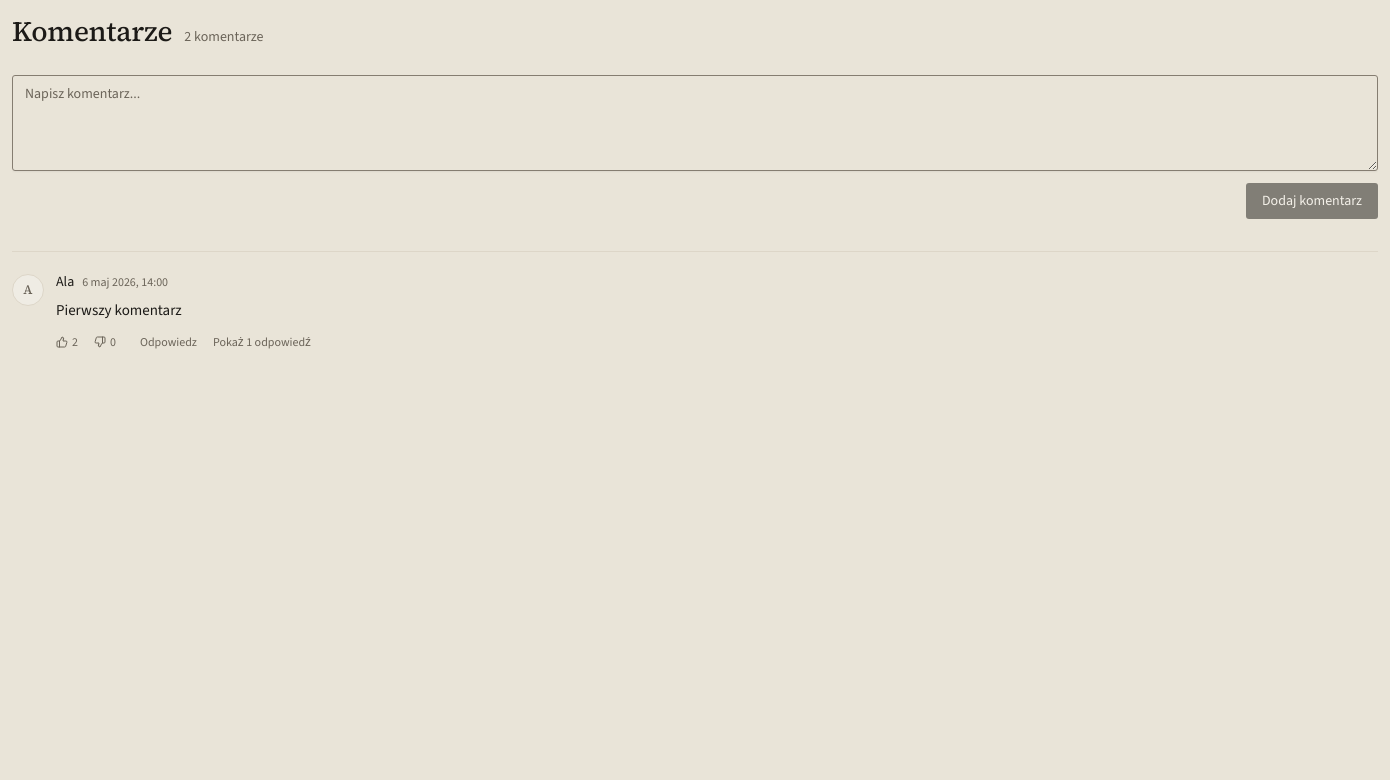
Test: ArticleComments › renders the comment tree and lets a signed-in user add a reply
Check: the text "2 komentarze" is shown, box [184,27,264,47]
Check: the text "Pierwszy komentarz" is shown, box [56,300,182,320]
Click the button "Pokaż 1 odpowiedź" at [262, 342], box [207,330,317,354]
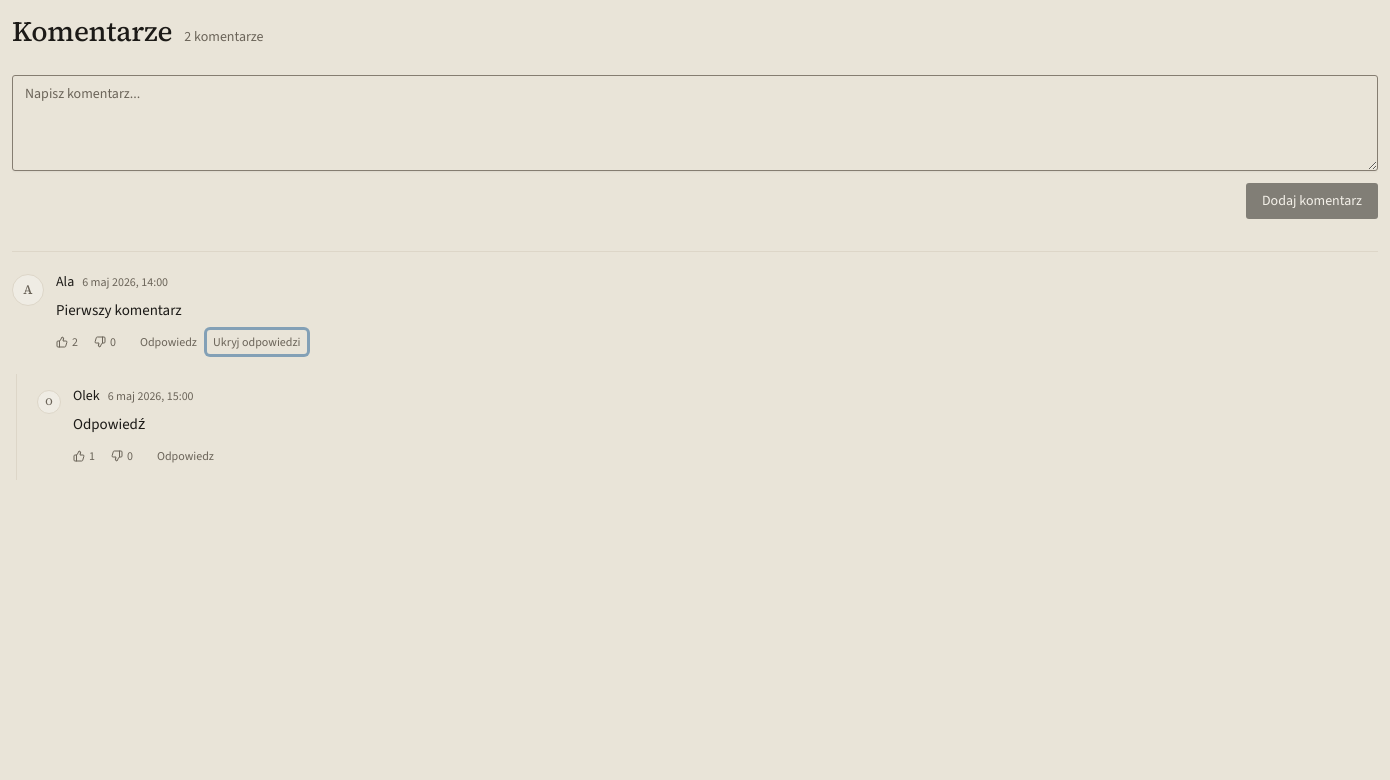
Check: the text "Odpowiedź" is shown, box [73,414,145,434]
Click the button "Odpowiedz" below "Pierwszy komentarz" at [168, 342], box [134,330,203,354]
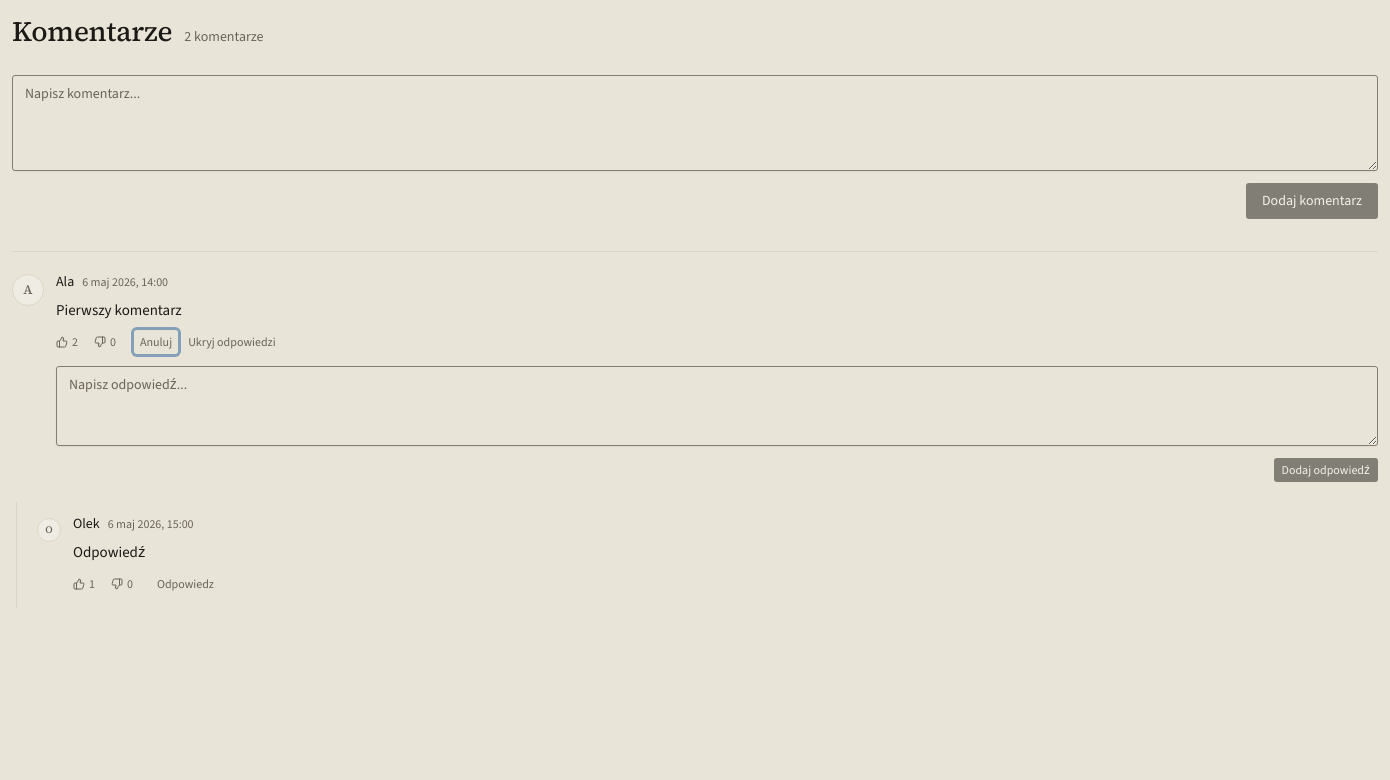
Type "Nowa odpowiedź" into the text box with placeholder "Napisz odpowiedź..." at [717, 406], box [56,366,1378,446]
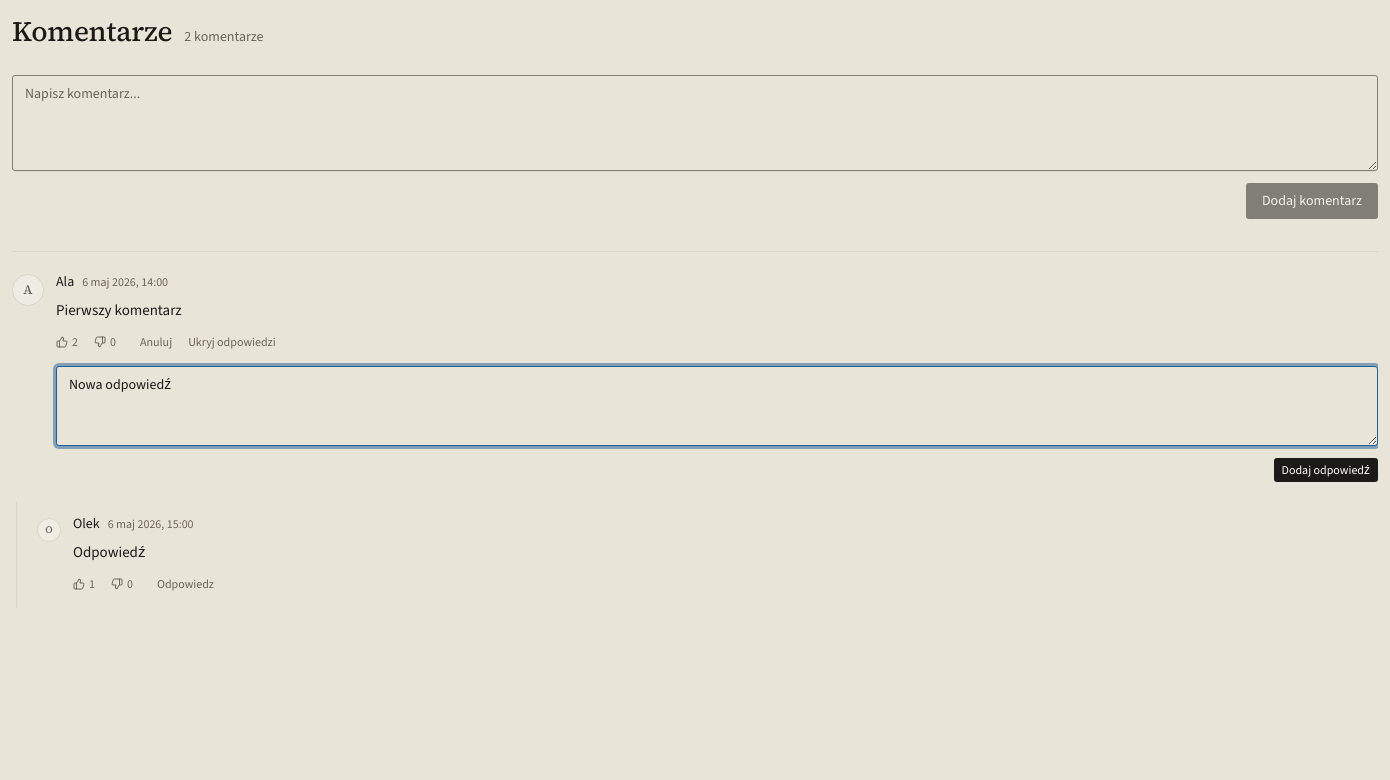
Click the button "Dodaj odpowiedź" at [1326, 470], box [1274,458,1378,482]
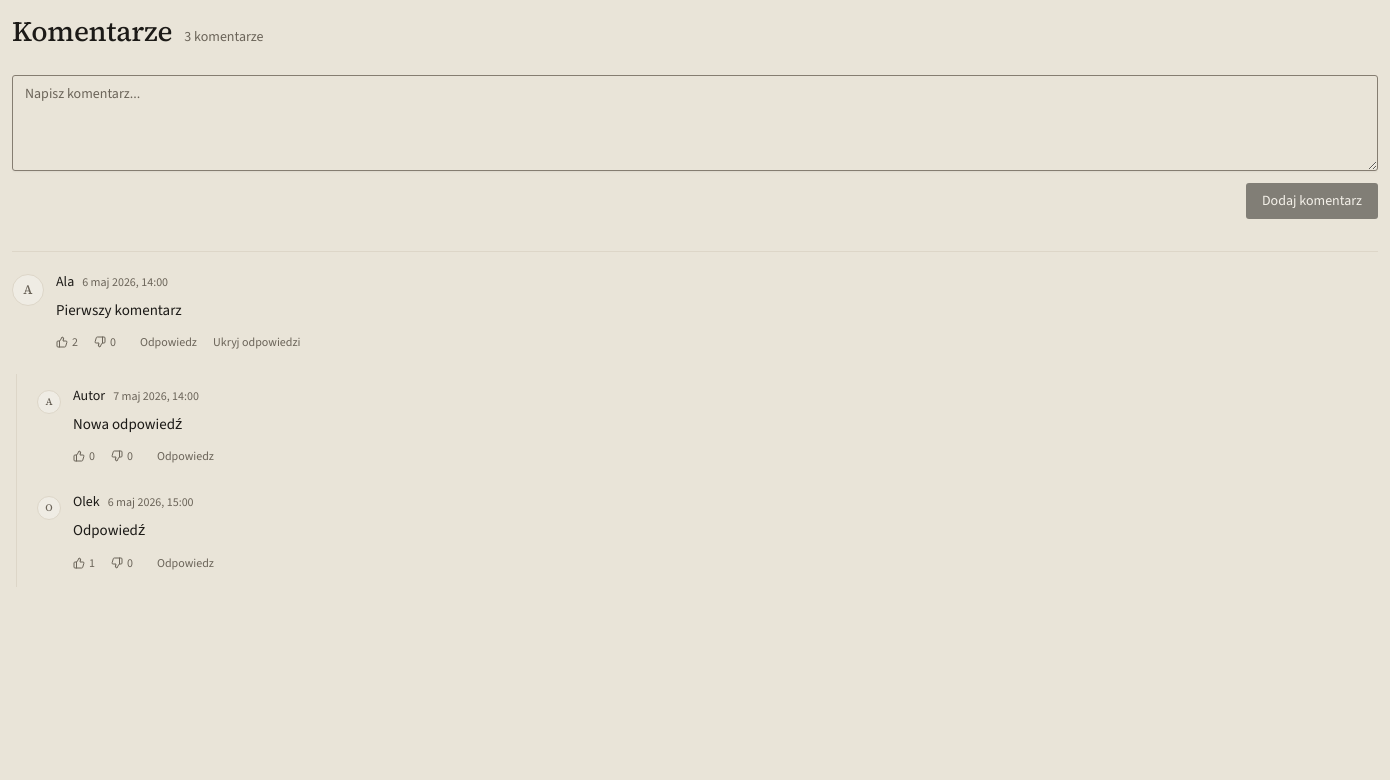
Check: the text "Nowa odpowiedź" is shown, box [73,414,183,434]
